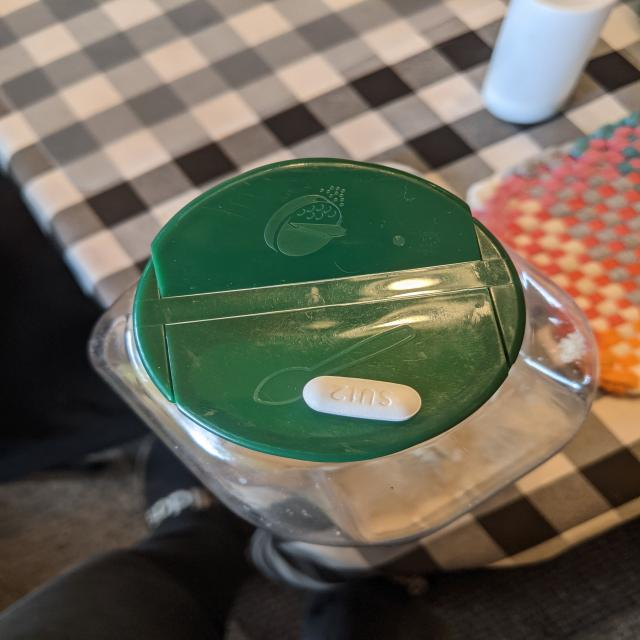non-organic waste: (302, 374, 422, 422)
